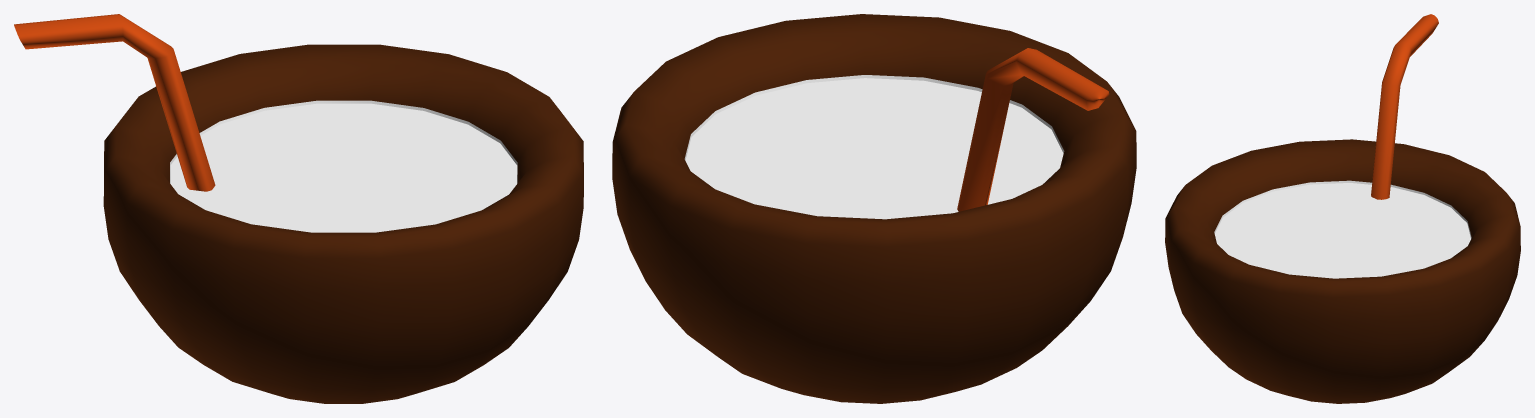
File: Cocco.fbx
3 views of the same model, side by side, from view 1: azimuth 30°, elevation 25°; view 2: azimuth 150°, elevation 25°; view 3: azimuth 270°, elevation 25° (orthographic). The views are drawn at different scales.
Visible parts, largest first — view 1: Cocco7; view 2: Cocco7; view 3: Cocco7.
Boxes of the visible parts, x1,y1,x2,y2 form: Cocco7: (14,14,583,403); Cocco7: (612,14,1136,403); Cocco7: (1165,14,1520,403).
Bounding box in the file's own units: 0.3019 × 0.2252 × 0.2635.
1 material, 1 textured.
